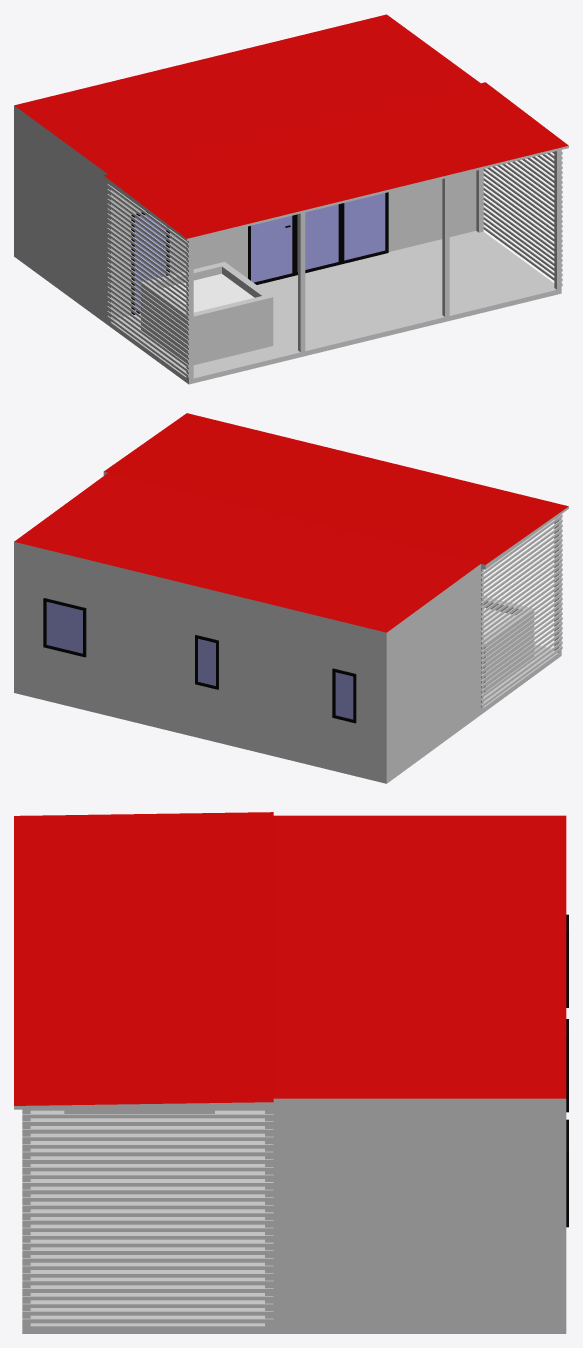
File: mobile_home_deluxe_polidor.glb
3 renders of one model, top to bottom at view 1: azimuth 30°, elevation 25°; view 2: azimuth 150°, elevation 25°; view 3: azimuth 270°, elevation 25°, orthographic. The views are drawn at different scales.
Parts seen in each view (by area): view 1: 3DGeom-449, 3DGeom-446, 3DGeom-445, 3DGeom-447, 3DGeom-448; view 2: 3DGeom-449, 3DGeom-446, 3DGeom-445, 3DGeom-447; view 3: 3DGeom-446, 3DGeom-449, 3DGeom-447.
Part boxes in pixels (left/top/right/bottom): 3DGeom-449: left=14, top=105, right=568, bottom=384; 3DGeom-446: left=14, top=14, right=568, bottom=238; 3DGeom-445: left=134, top=193, right=385, bottom=311; 3DGeom-447: left=131, top=192, right=388, bottom=314; 3DGeom-448: left=160, top=273, right=254, bottom=312; 3DGeom-449: left=14, top=472, right=568, bottom=783; 3DGeom-446: left=14, top=413, right=568, bottom=632; 3DGeom-445: left=46, top=602, right=353, bottom=719; 3DGeom-447: left=43, top=598, right=356, bottom=723; 3DGeom-446: left=14, top=812, right=566, bottom=1105; 3DGeom-449: left=14, top=1098, right=566, bottom=1333; 3DGeom-447: left=566, top=914, right=568, bottom=1227.
Bounding box in the file's own units: 0.0082 × 0.0031 × 0.00663.
